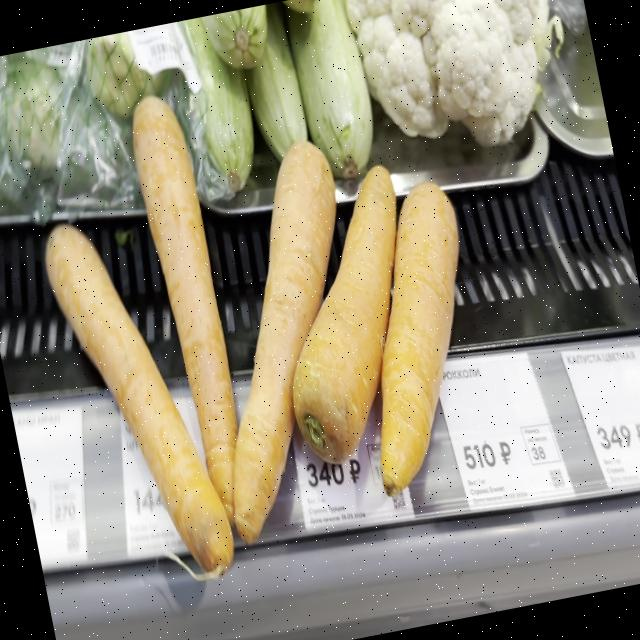carrot: (46, 225, 234, 572), (133, 96, 238, 521), (233, 141, 336, 543), (293, 165, 397, 463), (381, 182, 459, 495)
